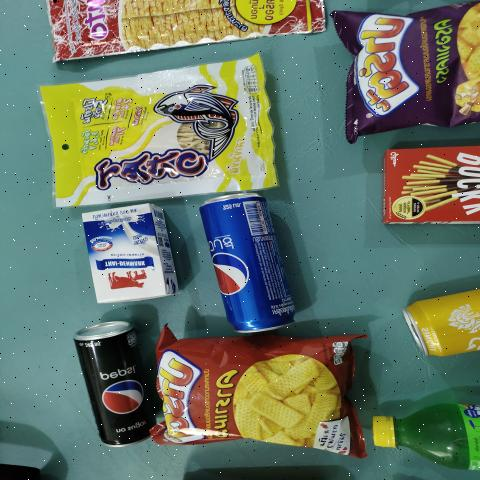party_red: (168, 349, 352, 446)
pepsi_black: (82, 321, 137, 448)
pepsi_blue: (197, 194, 298, 325)
pokki: (388, 146, 480, 236)
taro_yellow: (47, 66, 256, 199)
thai_denmark: (99, 205, 155, 306)
